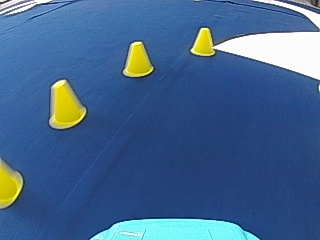cone: (47, 79, 87, 128), (122, 40, 154, 77), (1, 162, 22, 206), (190, 27, 215, 56)
